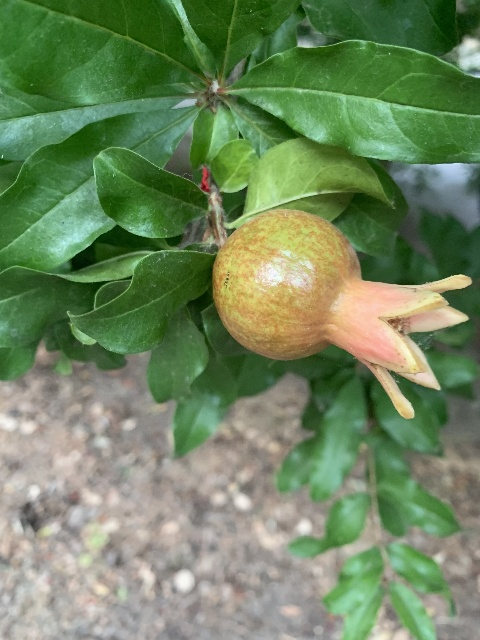early-fruit: (214, 209, 469, 418)
